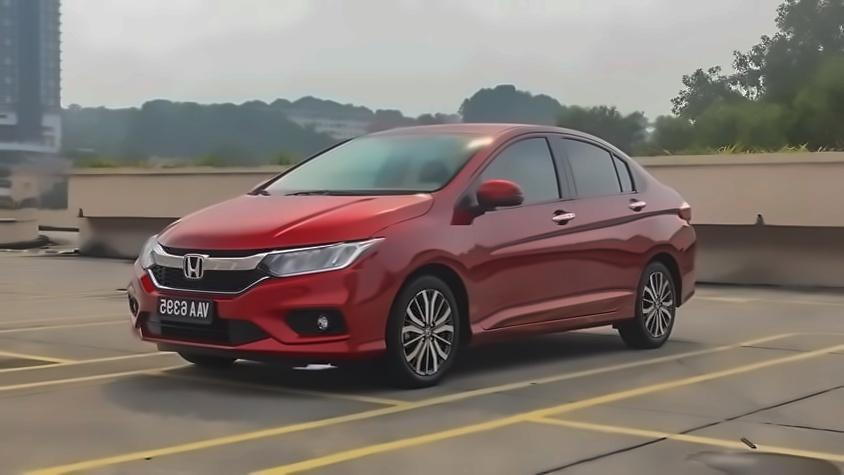Car hood: (153, 191, 438, 254)
Fender - -F-L-: (369, 190, 482, 340)
Fender - -R-L-: (631, 186, 691, 319)
Front bumper: (122, 261, 402, 363)
Headlight - -L-: (251, 232, 387, 282)
Headlight - -R-: (135, 228, 167, 272)
Passenger-s door - -F-L-: (473, 122, 576, 333)
Passenger-s door - -R-L-: (570, 129, 658, 321)
Rear bumper: (671, 249, 714, 308)
Rear light - -L-: (673, 195, 701, 230)
Side bumper - -L-: (465, 303, 642, 352)
Side mirror - -L-: (473, 172, 528, 215)
